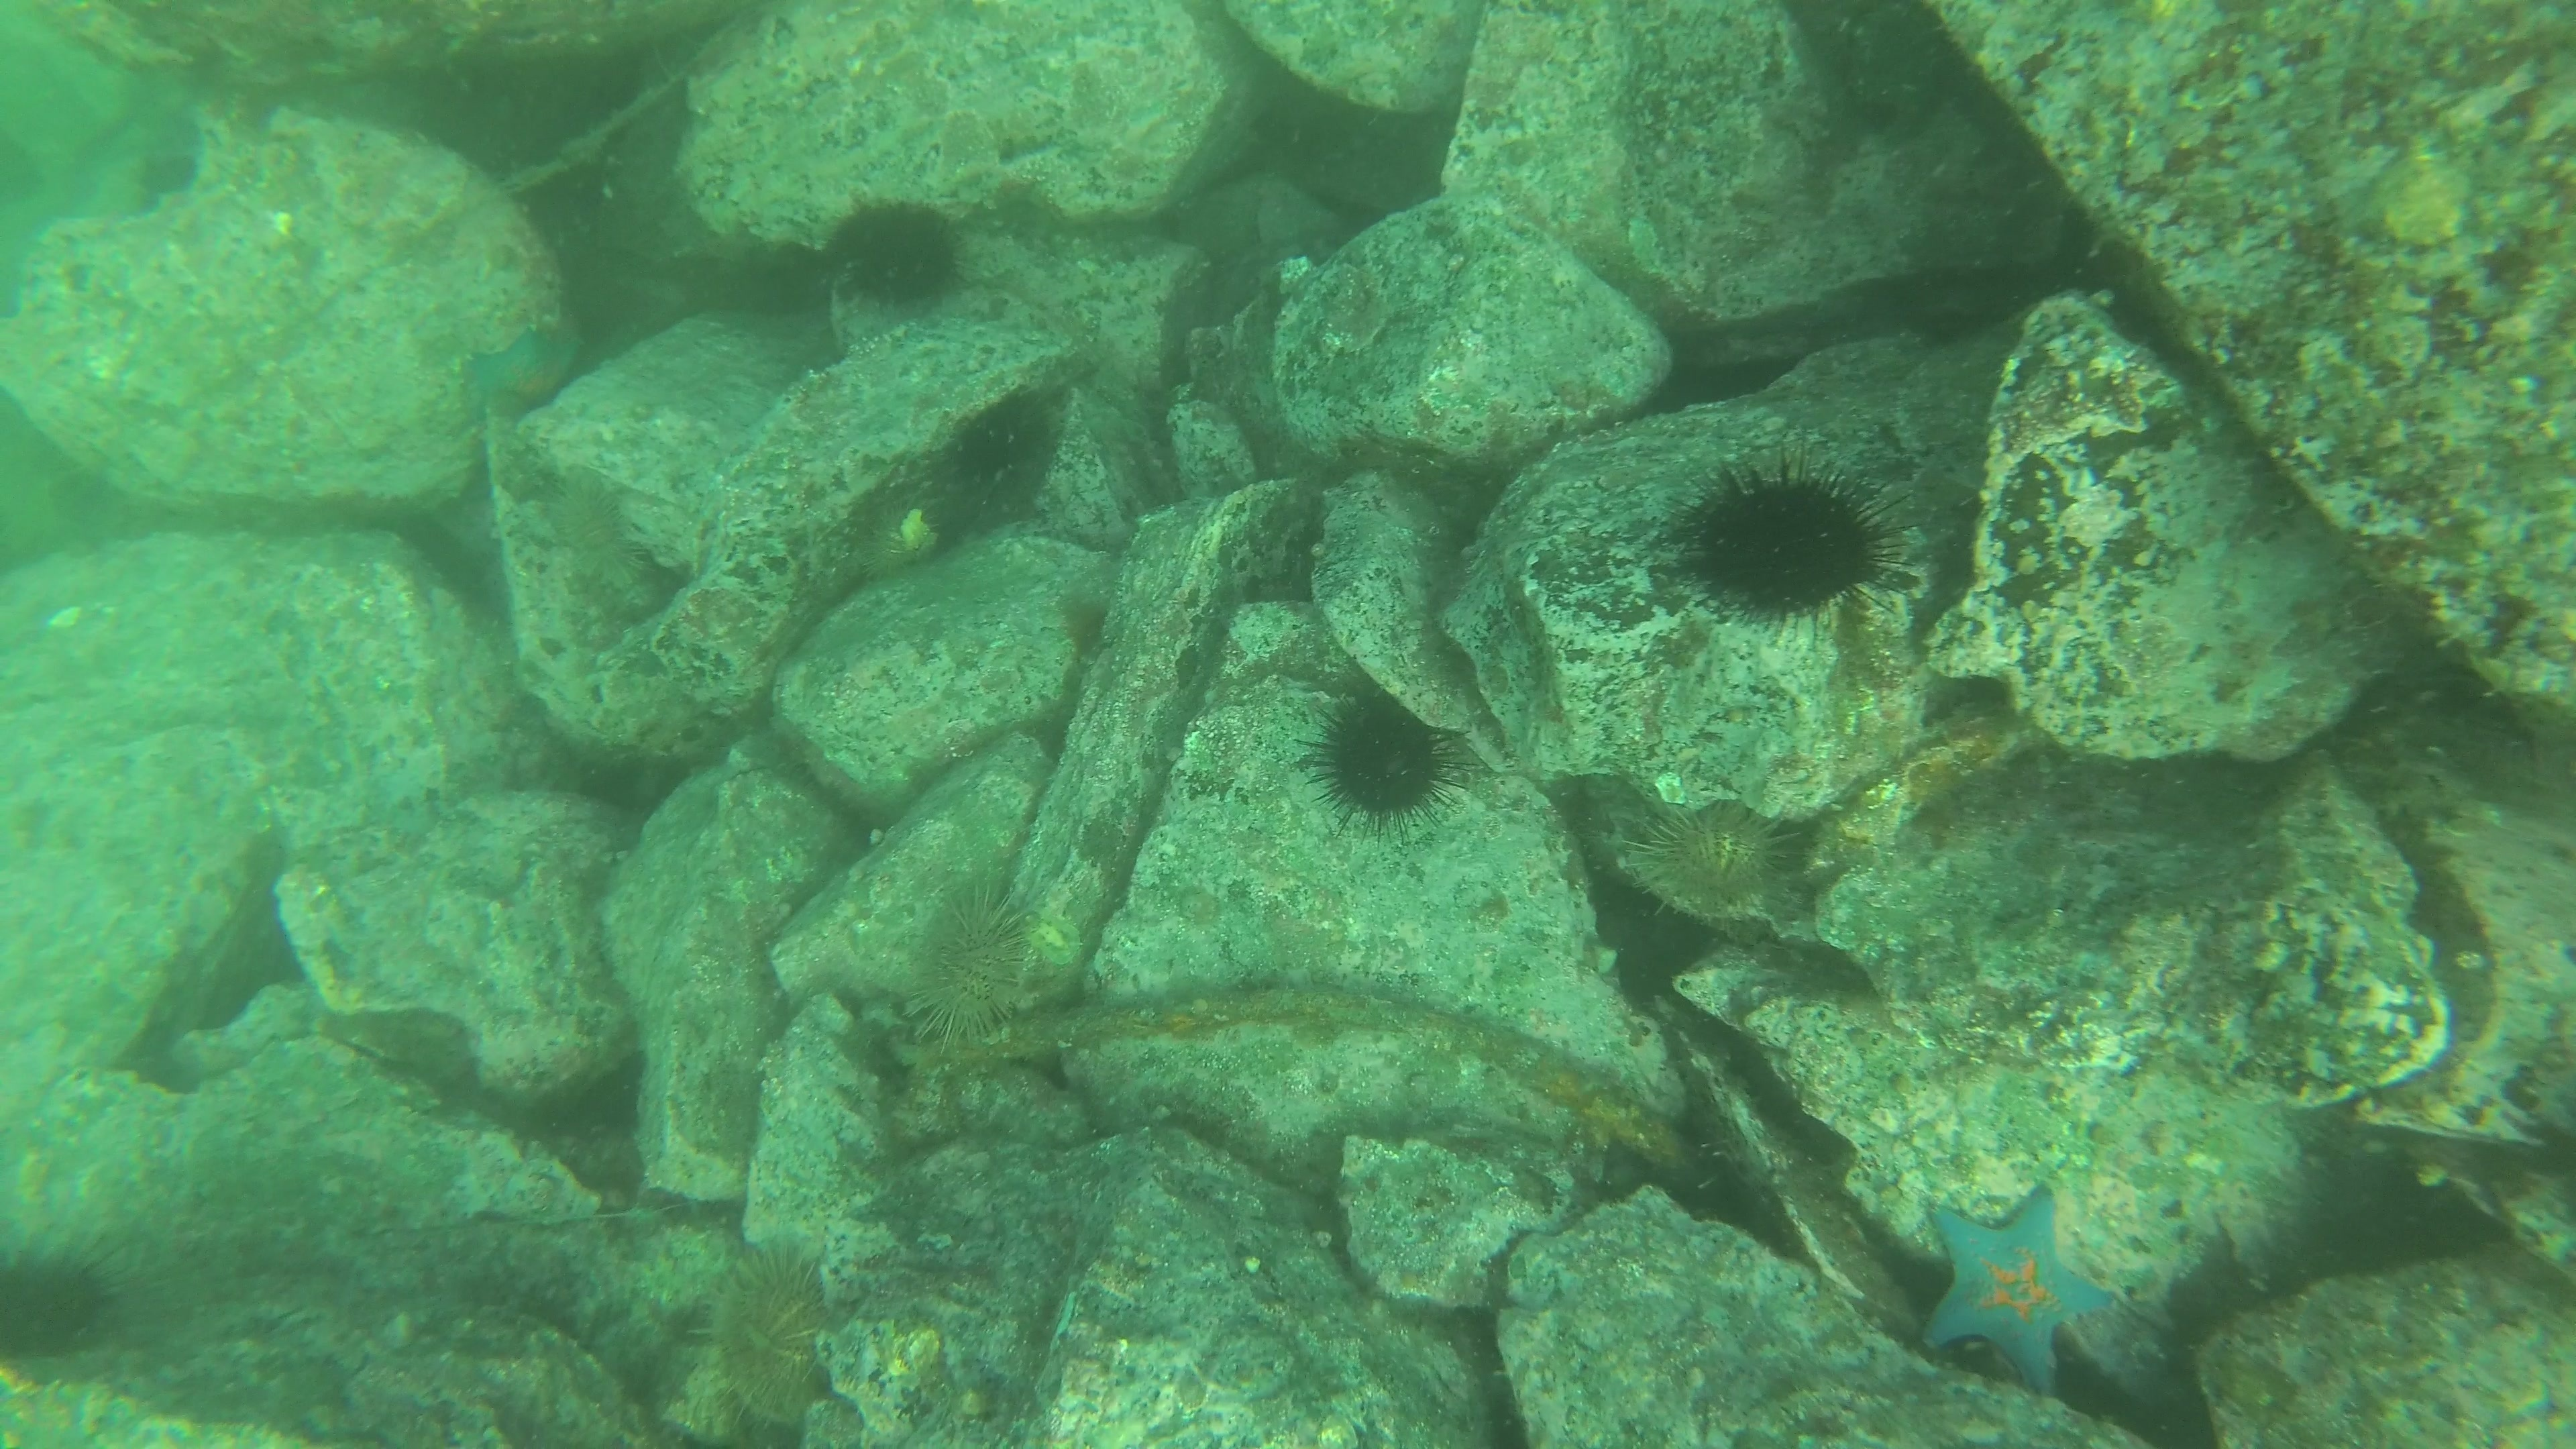echinus: (1674, 449, 1904, 630), (697, 1244, 844, 1431), (899, 881, 1049, 1051), (1306, 686, 1465, 830), (1622, 793, 1798, 922), (824, 193, 973, 317), (934, 389, 1065, 520), (2, 1233, 122, 1369)
starfish: (1911, 1184, 2121, 1392), (456, 317, 589, 428)
